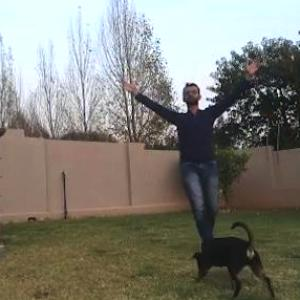takeoff: (117, 40, 300, 257)
